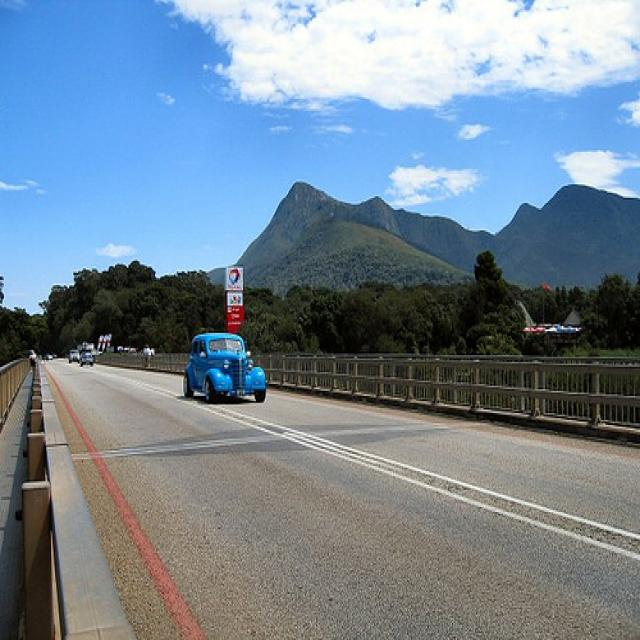car: (180, 332, 270, 411)
